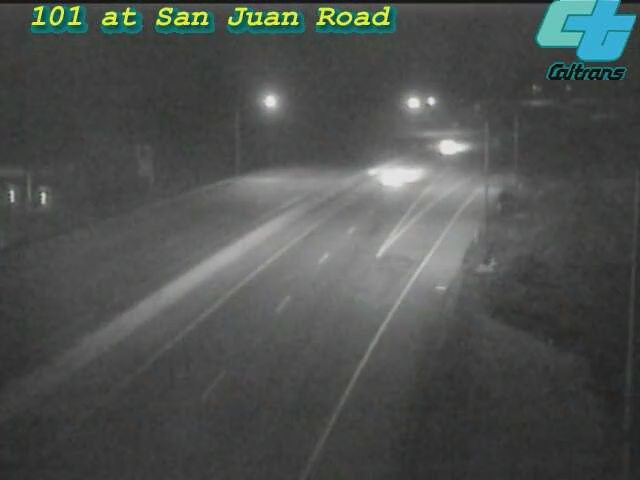vehicle: (356, 135, 436, 215), (420, 123, 470, 173)
